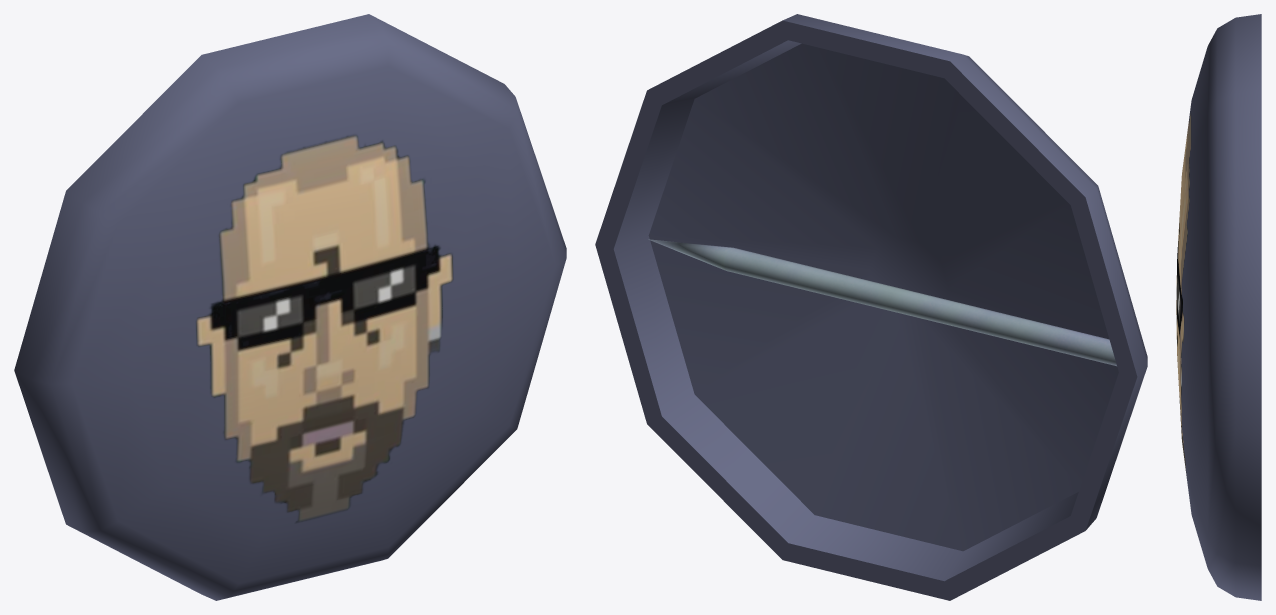
File: StenPin.obj
The picture shows the model from 3 angles, left to right: view 1: azimuth 30°, elevation 25°; view 2: azimuth 150°, elevation 25°; view 3: azimuth 270°, elevation 25°; orthographic projection. The views are drawn at different scales.
Visible parts, largest first — view 1: SM_StenPin; view 2: SM_StenPin; view 3: SM_StenPin.
Part boxes in pixels (x1=…): SM_StenPin: x1=14, y1=14, x2=566, y2=600; SM_StenPin: x1=595, y1=14, x2=1147, y2=600; SM_StenPin: x1=1176, y1=14, x2=1261, y2=600.
Bounding box in the file's own units: 0.5 × 0.4755 × 0.072.
